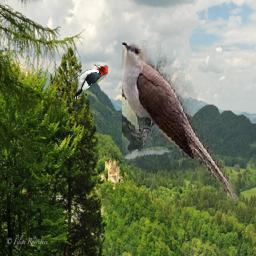Cuckoo: (122, 40, 238, 204)
Woodpecker: (74, 65, 108, 100)
